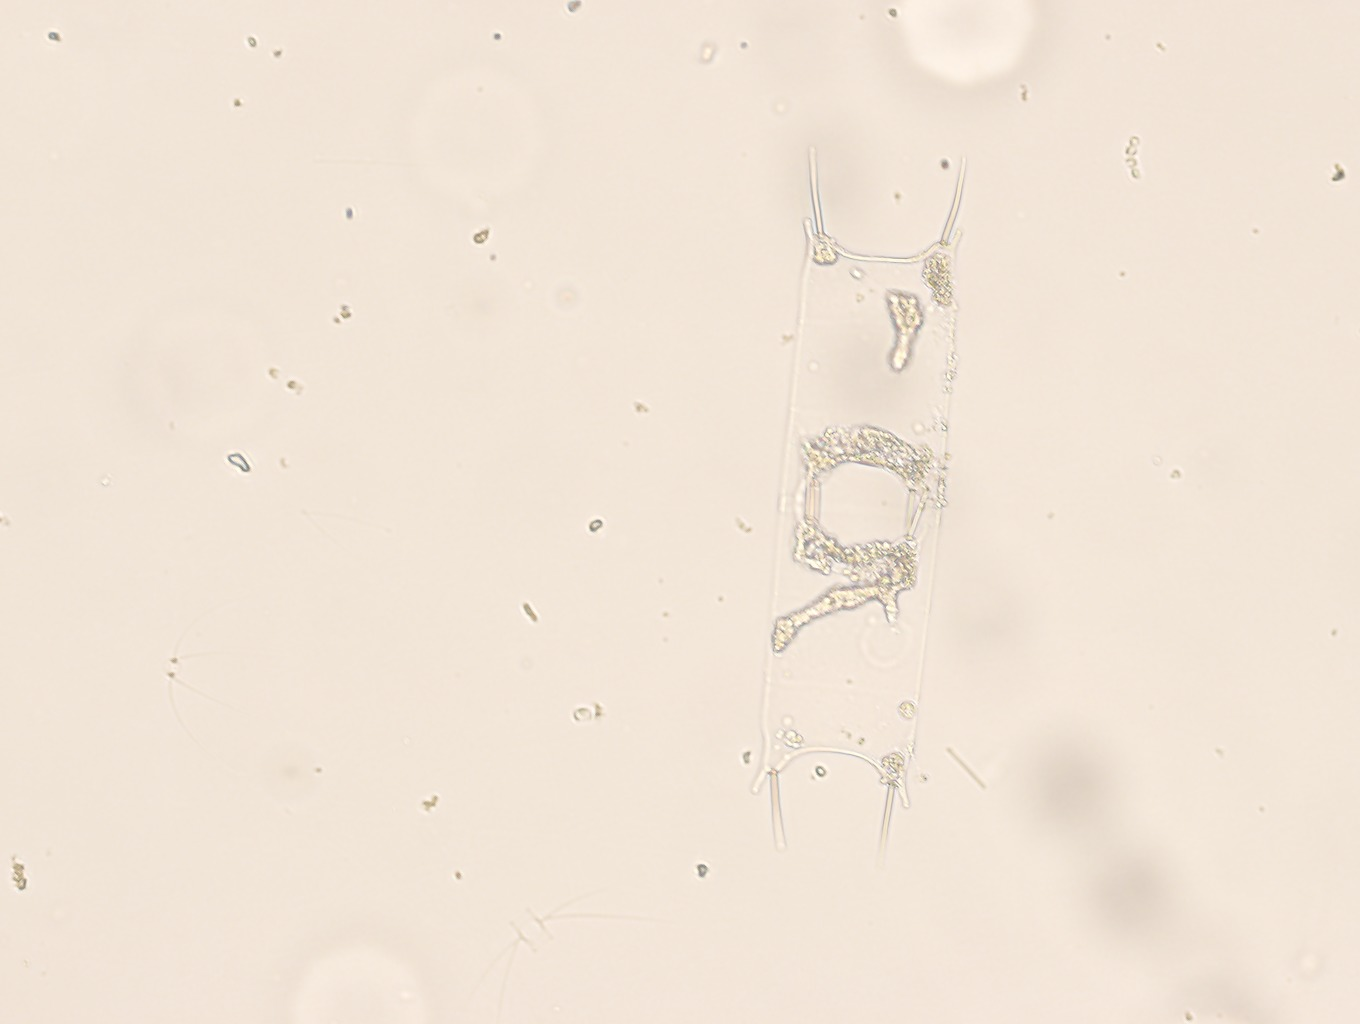biddulphia: (749, 141, 973, 854)
